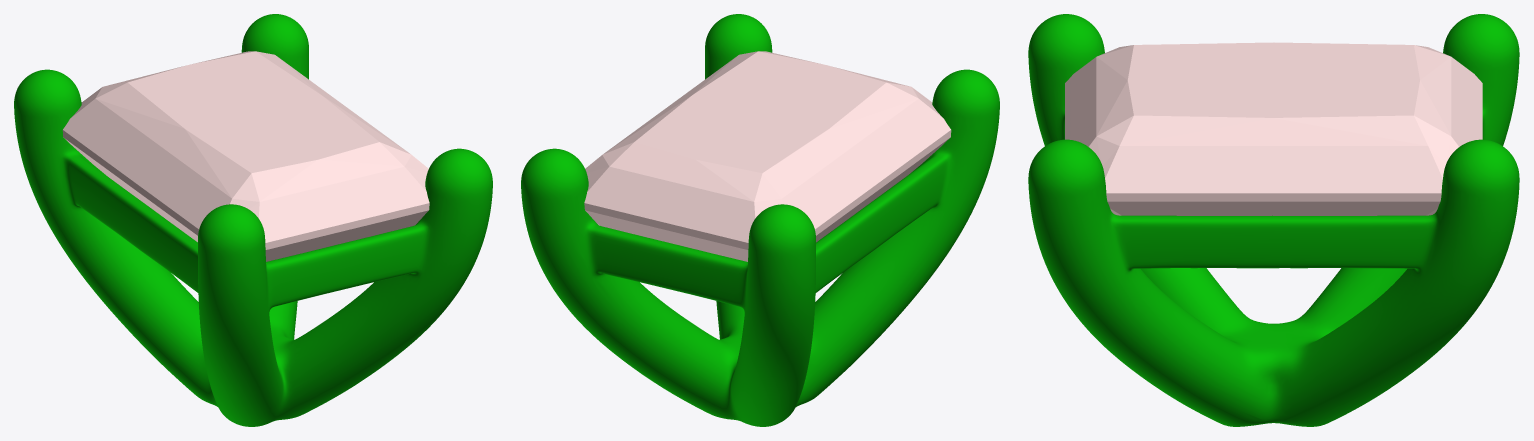
3 views of the same model, side by side, from view 1: azimuth 30°, elevation 25°; view 2: azimuth 150°, elevation 25°; view 3: azimuth 270°, elevation 25° (orthographic). The views are drawn at different scales.
Visible parts, largest first — view 1: Metal01, Diamond_Radiant; view 2: Metal01, Diamond_Radiant; view 3: Metal01, Diamond_Radiant.
Boxes of the visible parts, left/top/right/bottom form: Metal01: left=14, top=14, right=492, bottom=426; Diamond_Radiant: left=62, top=51, right=429, bottom=261; Metal01: left=521, top=14, right=999, bottom=426; Diamond_Radiant: left=584, top=51, right=951, bottom=261; Metal01: left=1028, top=14, right=1519, bottom=426; Diamond_Radiant: left=1065, top=42, right=1482, bottom=215.
Bounding box in the file's own units: 4.91 × 4.82 × 6.47.
